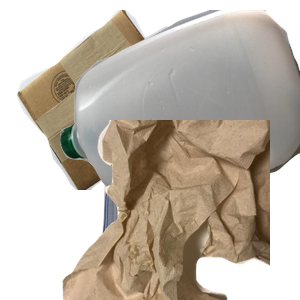cardboard: (14, 10, 222, 190)
glass: (98, 168, 251, 300)
plastic: (60, 10, 300, 190)
trash: (60, 120, 300, 300)
